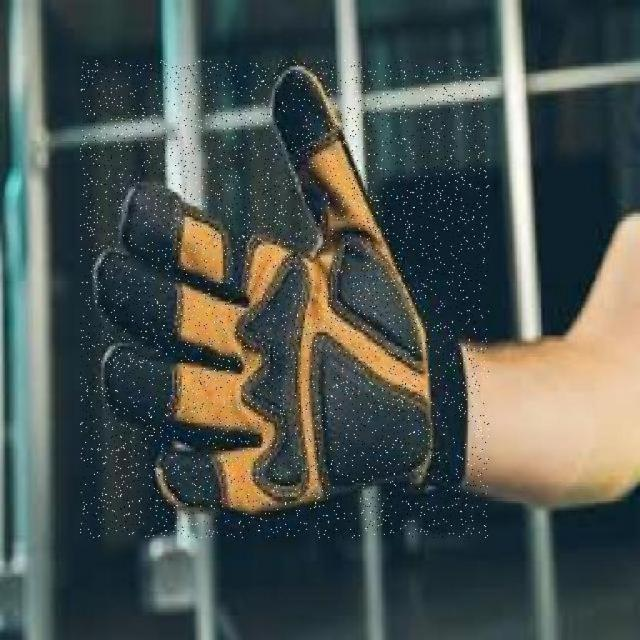Gloves-Detection: (80, 61, 480, 528)
